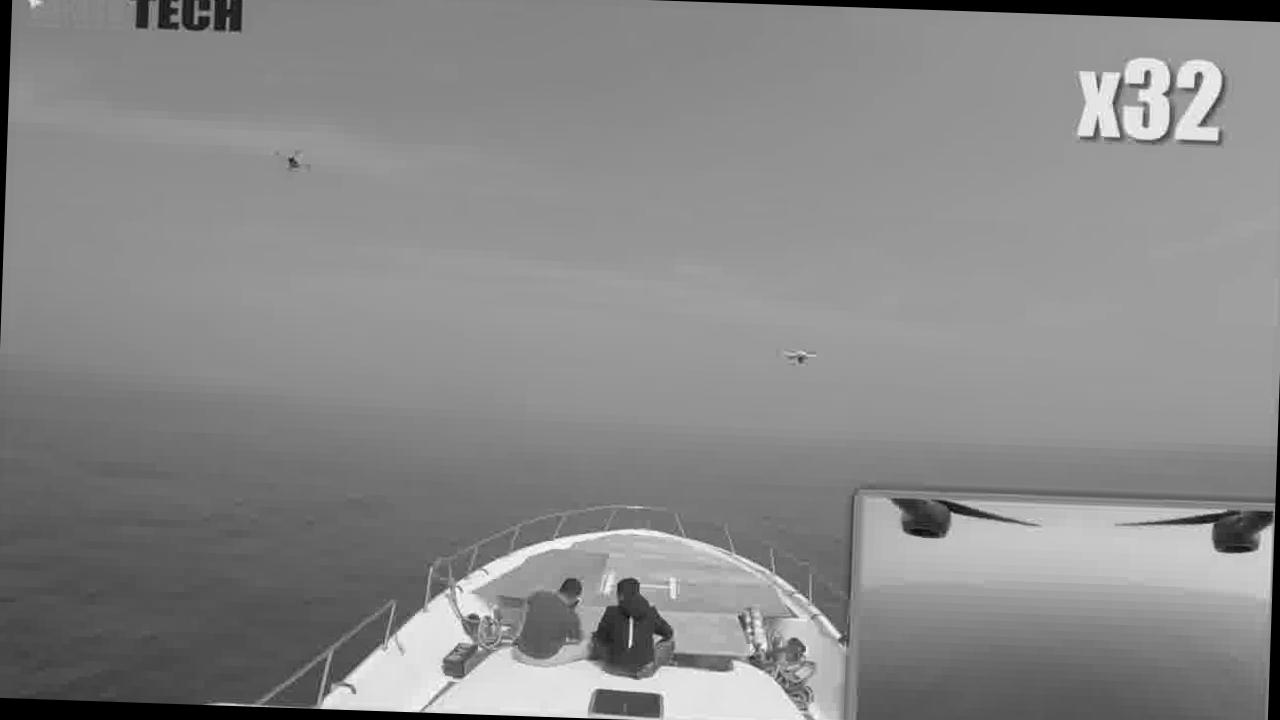drone: (770, 338, 827, 374), (272, 136, 314, 180)
